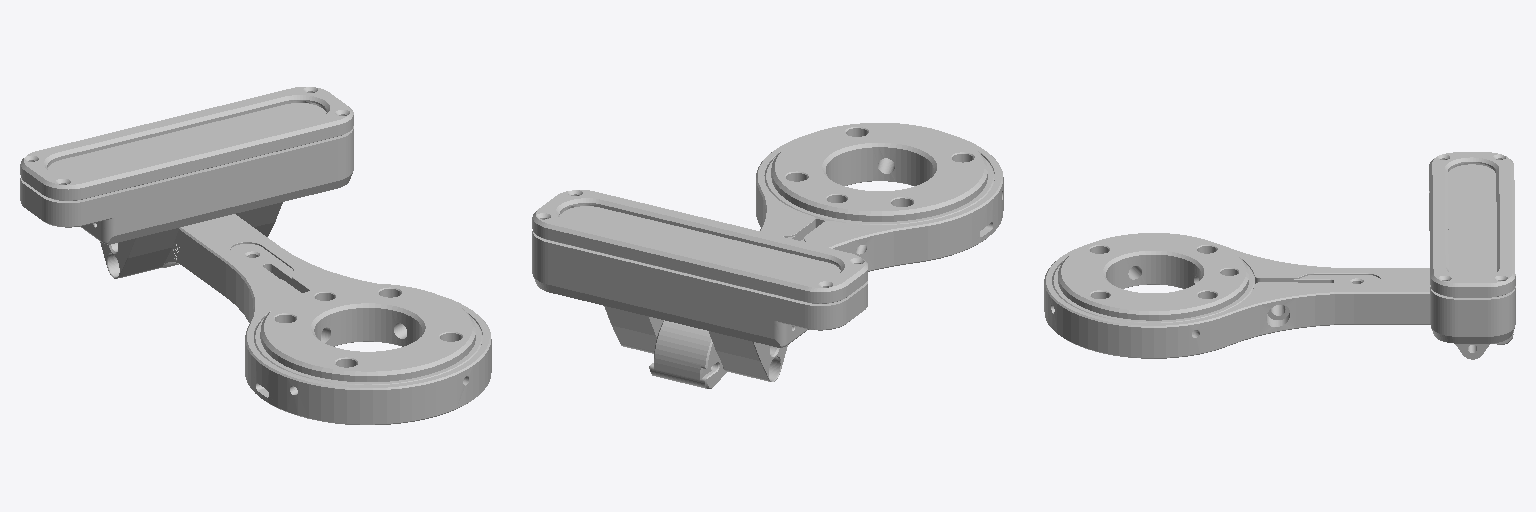
robot.urdf — onrobot_eyes_model:
<?xml version="1.0"?>
<robot name="onrobot_eyes_model">
    <link name="onrobot_eyes_base_link">
        <inertial>
            <origin rpy="0 0 0" xyz="0.0 0.0 0.0" />
            <mass value="0.26"/>
            <inertia ixx="1.0E-03" ixy="1.0E-06" ixz="1.0E-06" iyy="1.0E-03" iyz="1.0E-06"
                izz="1.0E-03" />
        </inertial>
        <visual>
            <origin rpy="0 0 0" xyz="0 0 0" />
            <geometry>
                <mesh filename="package://par_pkg/meshes/visual/camerav3.stl" />
            </geometry>
            <material name="">
                <color rgba="0.8 0.8 0.8 1" />
            </material>
        </visual>
        <collision>
            <origin rpy="0 0 0" xyz="0 0 0" />
            <geometry>
                <mesh filename="package://par_pkg/meshes/collision/camerav3.stl" />
            </geometry>
        </collision>
    </link>
    <link name="onrobot_eyes_tool_link"/>
    <link name="camera_link"/>
    <joint name="onrobot_eyes_joint" type="fixed">
        <origin rpy="0 0 0" xyz="0 0 0.0105"/>
        <parent link="onrobot_eyes_base_link"/>
        <child link="onrobot_eyes_tool_link"/>
        <axis xyz="0 0 0"/>
    </joint>
    <joint name="camera_joint" type="fixed">
        <origin rpy="0 0 0" xyz="0 0.105 0"/>
        <parent link="onrobot_eyes_base_link"/>
        <child link="camera_link"/>
        <axis xyz="0 0 0"/>
    </joint>
</robot>

--- Facts derived from the render (not from the file) ---
3 views of the same robot in one strip: view 1: azimuth 30°, elevation 25°; view 2: azimuth 150°, elevation 25°; view 3: azimuth 270°, elevation 25° (orthographic).
Model onrobot_eyes_model with 3 links and 2 joints (2 fixed), rooted at onrobot_eyes_base_link, posed all joints at 0.
Links seen in each view (by area): view 1: onrobot_eyes_base_link; view 2: onrobot_eyes_base_link; view 3: onrobot_eyes_base_link.
Link boxes in pixels (bbox=[...]): onrobot_eyes_base_link: bbox=[20, 87, 491, 424]; onrobot_eyes_base_link: bbox=[532, 123, 1003, 388]; onrobot_eyes_base_link: bbox=[1044, 152, 1515, 359].
Size in the robot's own frame: 0.104 by 0.1551 by 0.042 metres.
Meshes: 1 distinct files referenced, 1 mesh visuals loaded (1 binary STL).